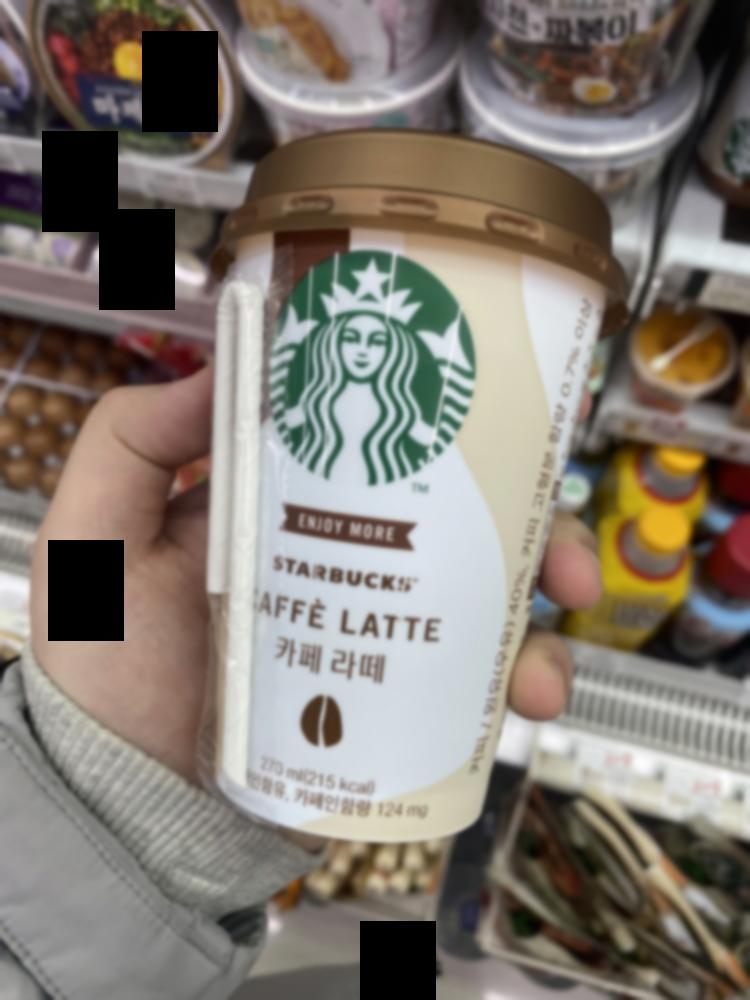starbucks_cafelatte: (181, 123, 605, 851)
